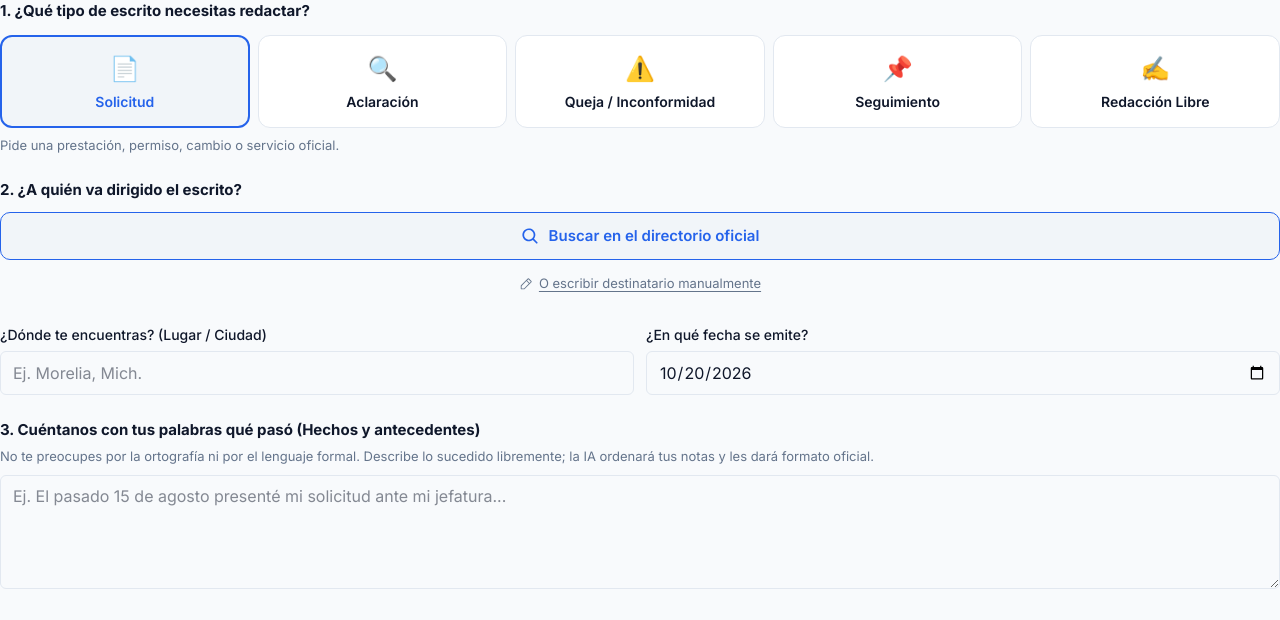
Test case: Generador de escritos: Flujo rediseñado y comprobaciones DOM › 1. Botón 'Buscar en el directorio oficial' visible y clicable + dropdown redundante eliminado
The width and height of the screenshot is (1280, 620).
// Clic en buscar debe abrir el modal de directorio
Click the button "Buscar en el directorio oficial" at point(640, 236), box [0,212,1279,260]
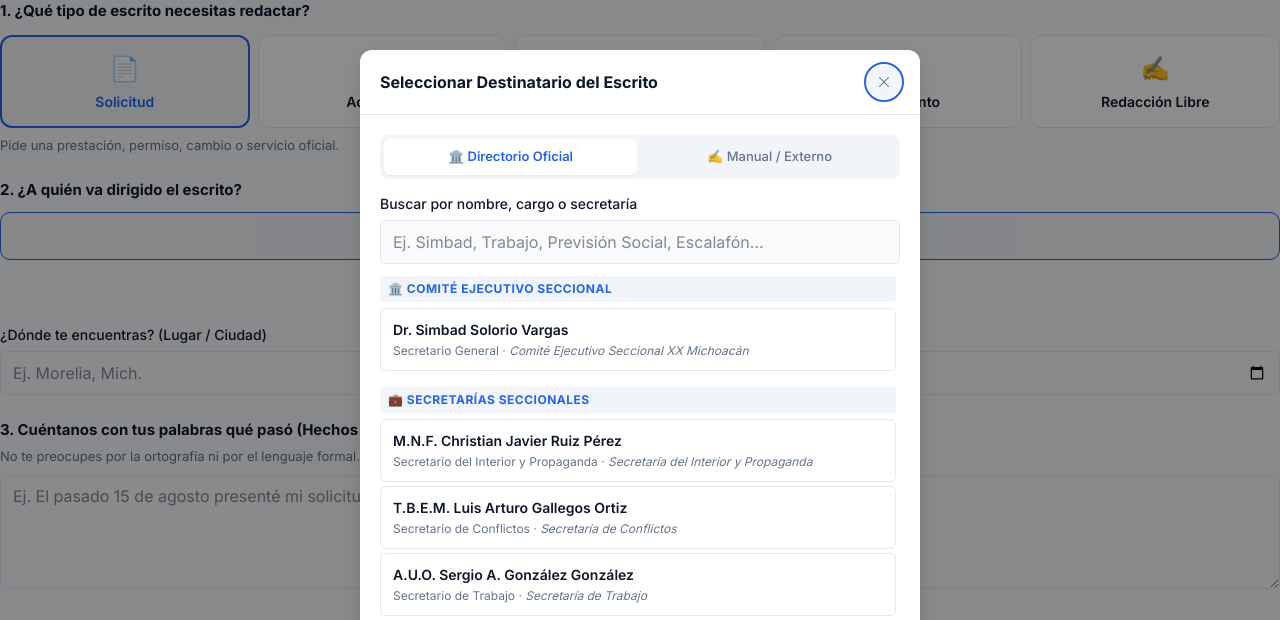
Expected: the heading "Seleccionar Destinatario del Escrito" is shown, [380,70,658,94]
Expected: the tab "🏛️ Directorio Oficial" is shown, [384,139,637,174]
